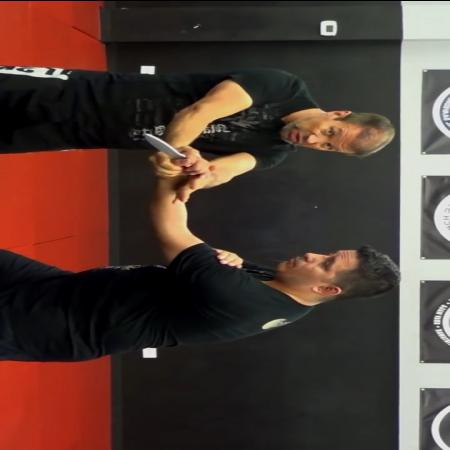long weapon: (140, 130, 210, 172)
